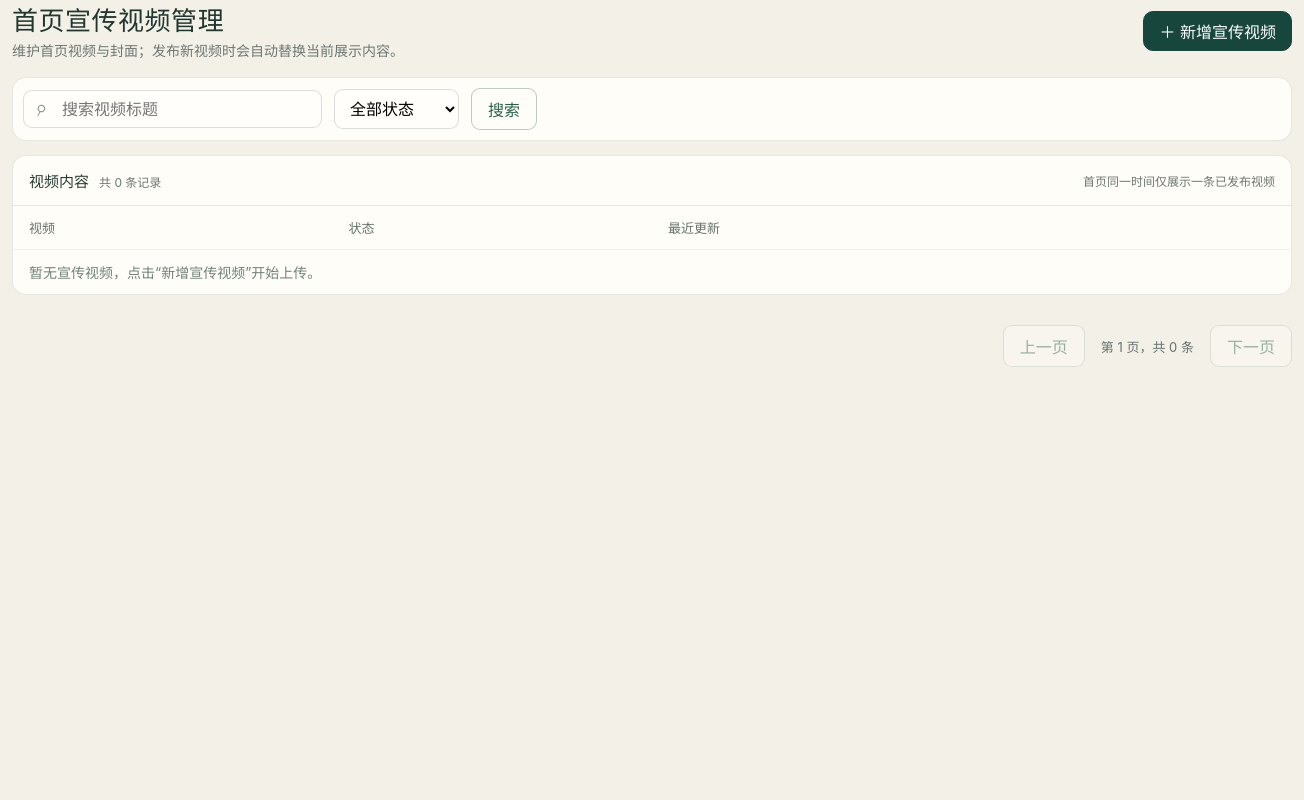
Test: HomeVideoPage › opens the compact editor with a mini program preview
Check: the text "暂无宣传视频，点击“新增宣传视频”开始上传。" is shown, box x1=13 y1=250 x2=1291 y2=294
Click the button "＋ 新增宣传视频" at (1218, 31), box x1=1144 y1=11 x2=1292 y2=51
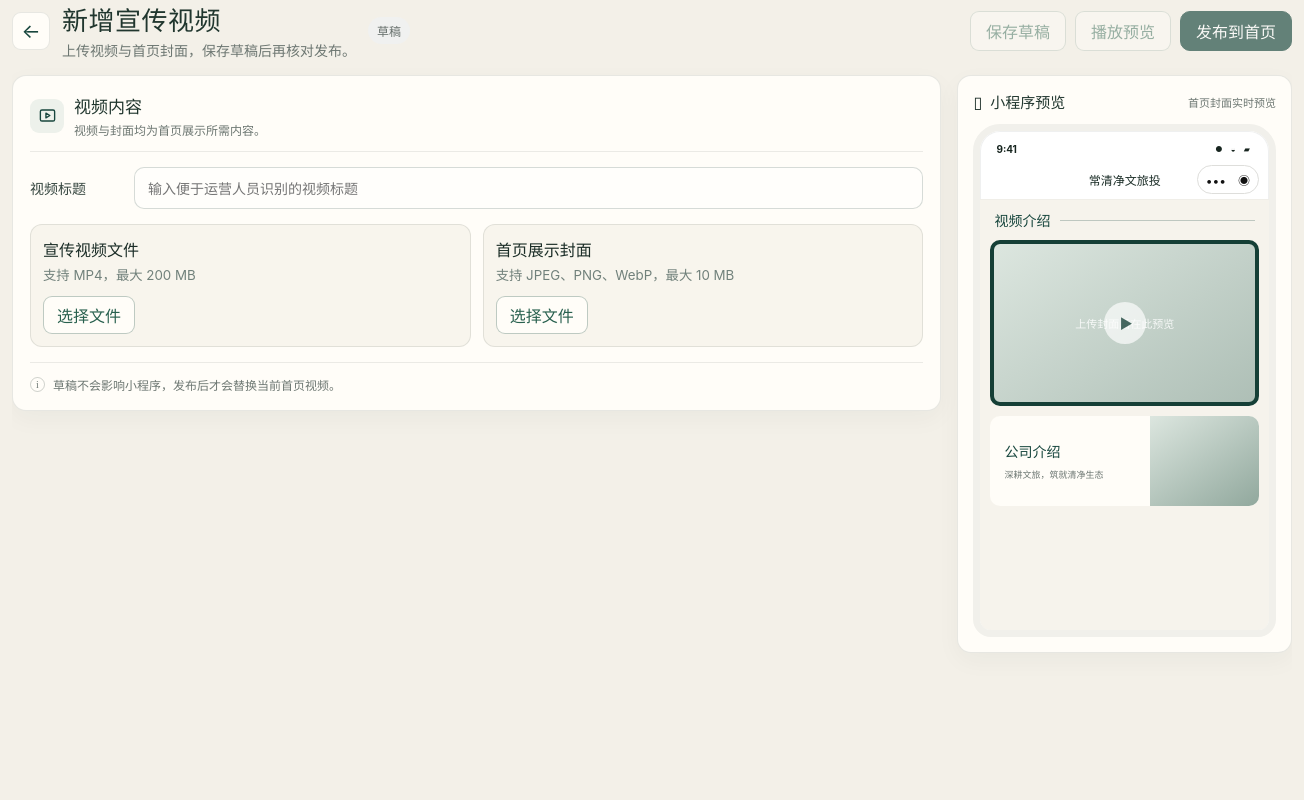
Check: the heading "新增宣传视频" is shown, box x1=62 y1=7 x2=221 y2=36
Check: the text "宣传视频文件" is shown, box x1=43 y1=240 x2=139 y2=260
Check: the text "首页展示封面" is shown, box x1=496 y1=240 x2=592 y2=260
